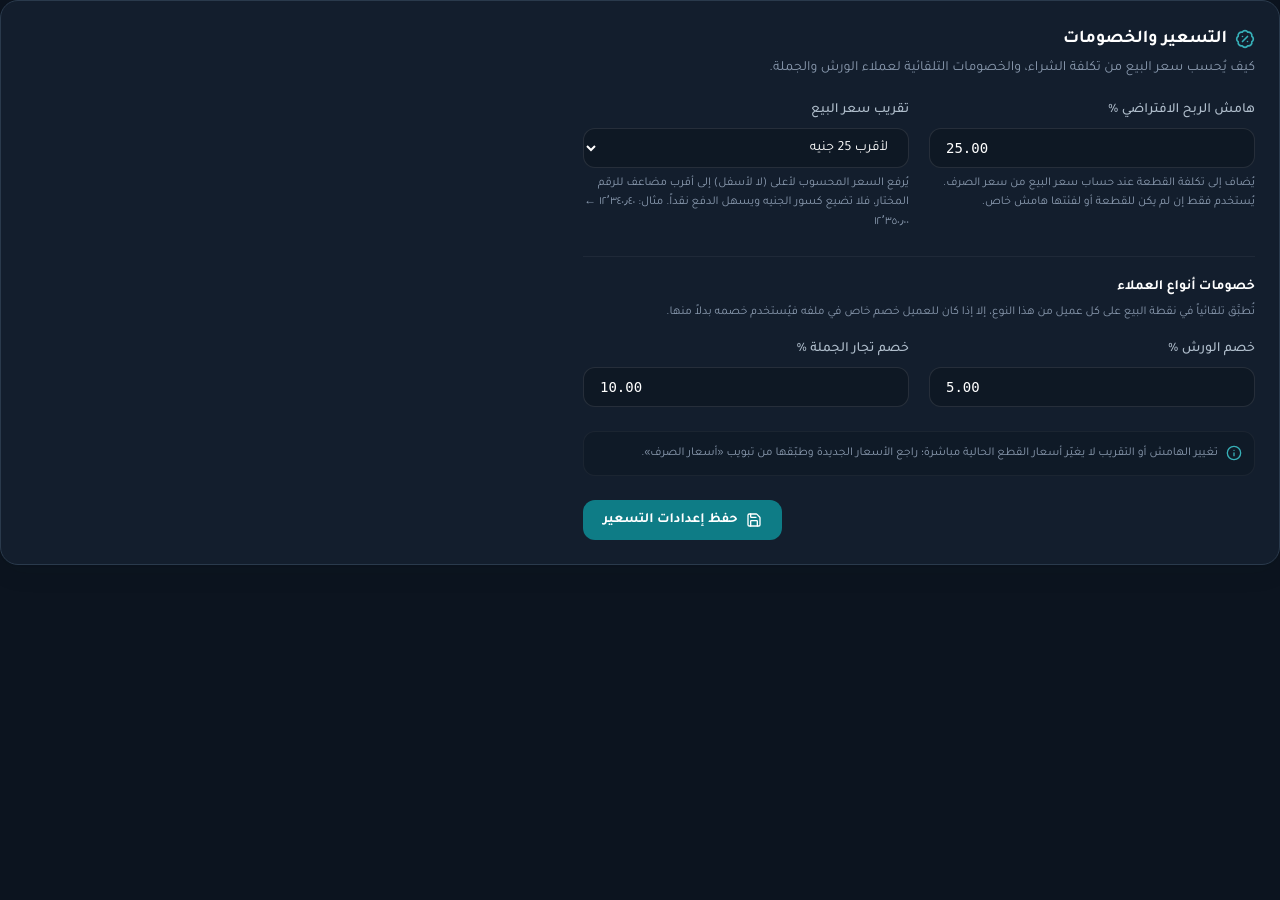
Test case: أقسام الإعدادات › التسعير: يحافظ على تقريب غير قياسي ويرسل الخطوة رقماً
Step 1. Select "لأقرب 100 جنيه" in the dropdown labelled "تقريب سعر البيع" → (746, 148), box [583,128,909,168]
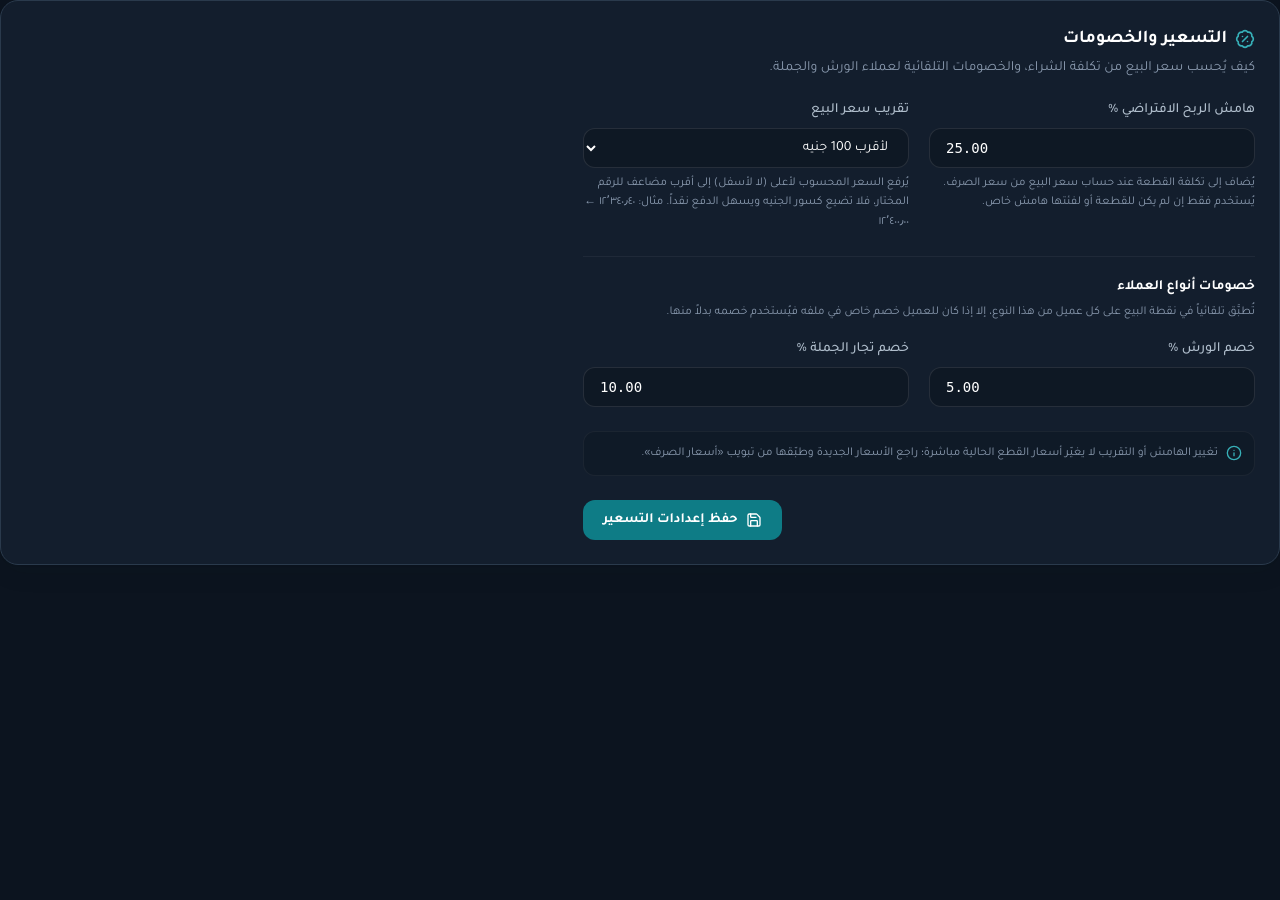
Step 2. Click the button "حفظ إعدادات التسعير" → (682, 520), box [583,500,782,540]
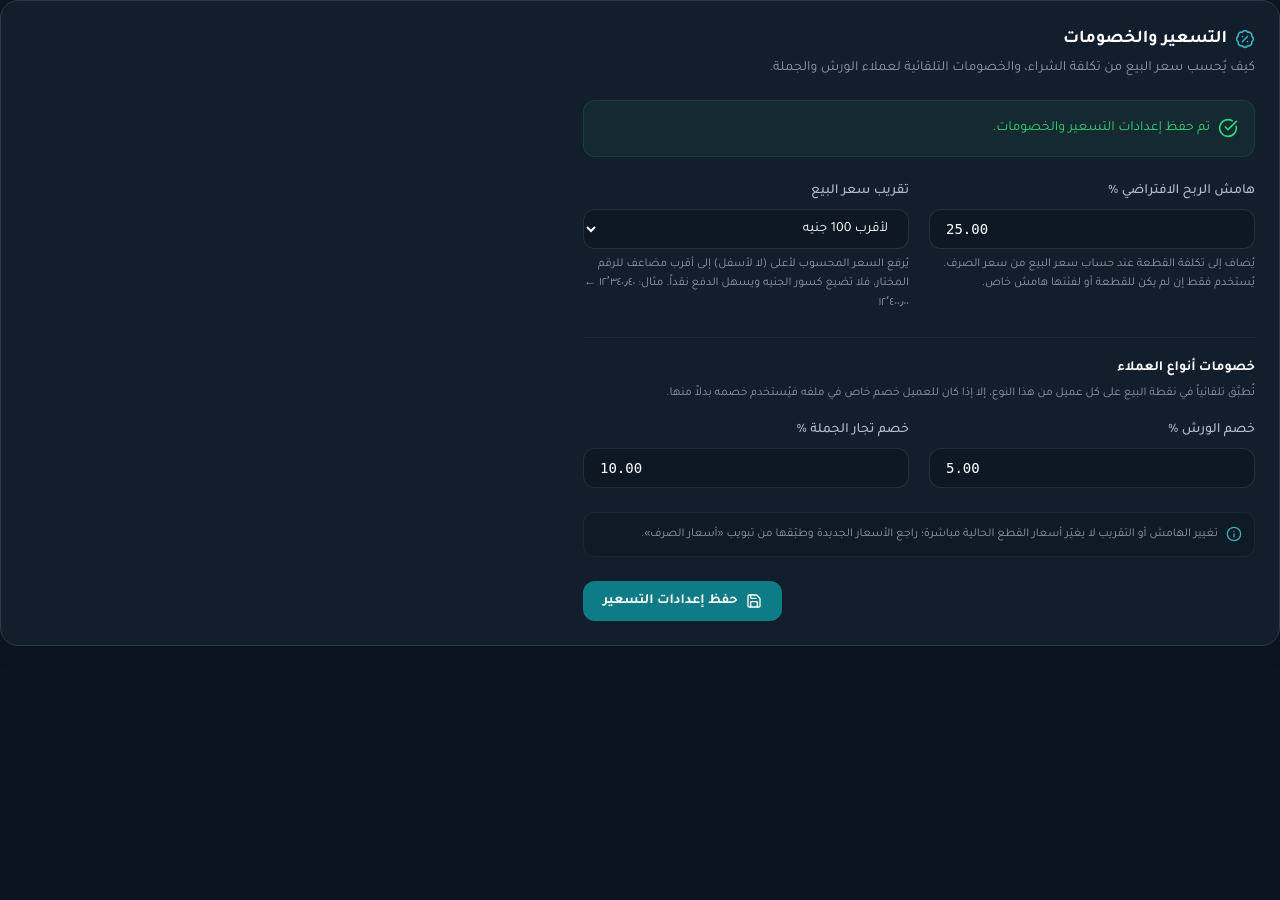
Expected: the text "تم حفظ إعدادات التسعير والخصومات." is shown, [992,117,1210,140]
